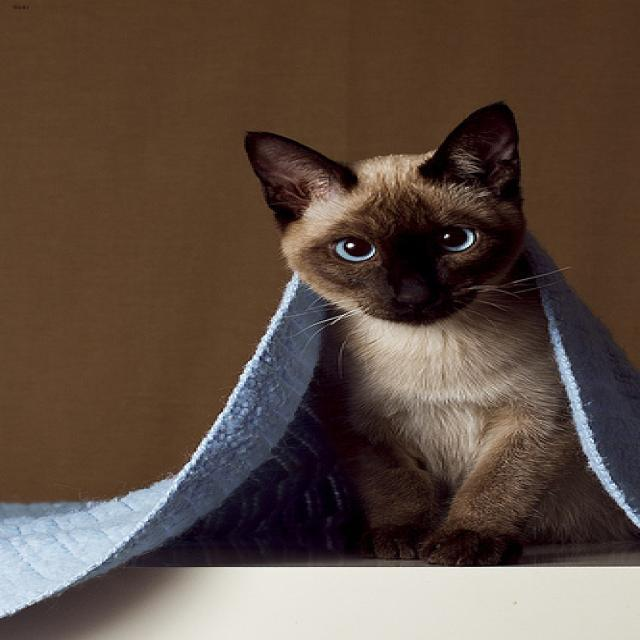Siamese: (225, 95, 536, 333)
